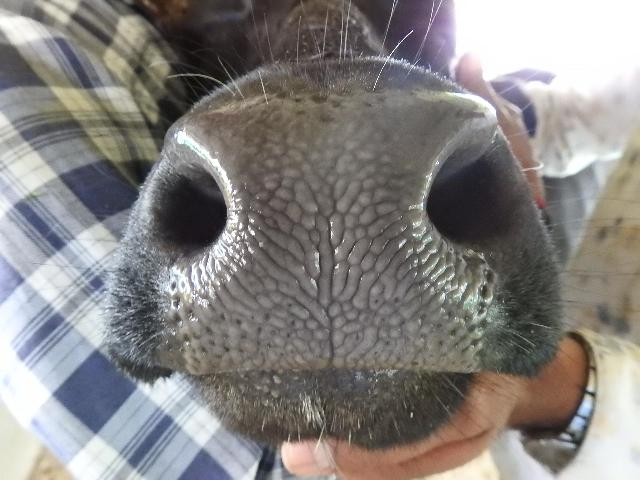Muzzle: (222, 128, 428, 362)
